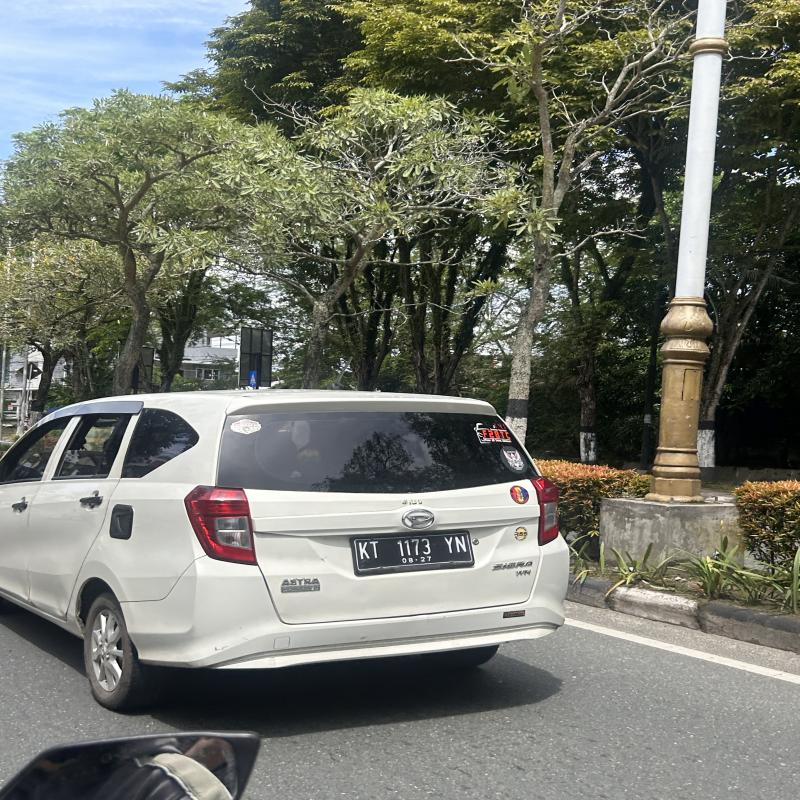license plate on a car: (351, 531, 475, 575)
